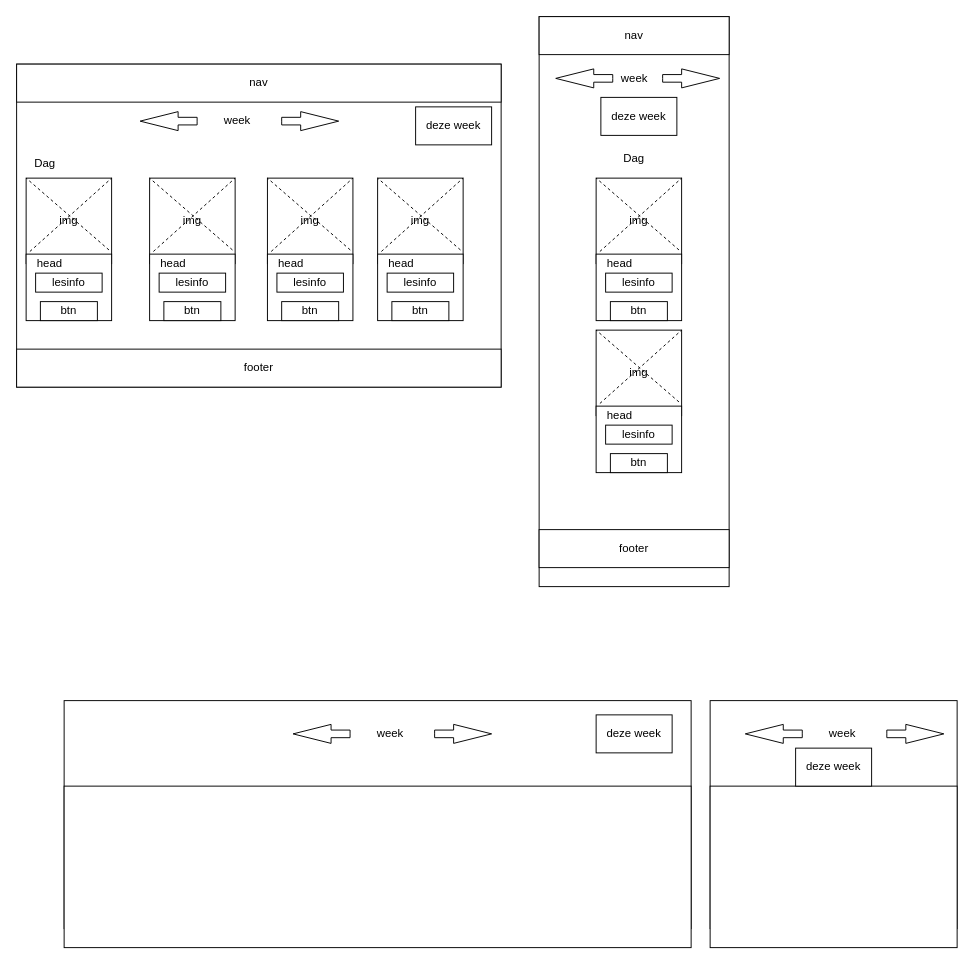
This 974x964 diagram has some shape labels left out. The centre of each missing label's shape, as x and y in pixels:
"table" goes at point (377, 866).
"table sidescroll" goes at point (833, 866).
